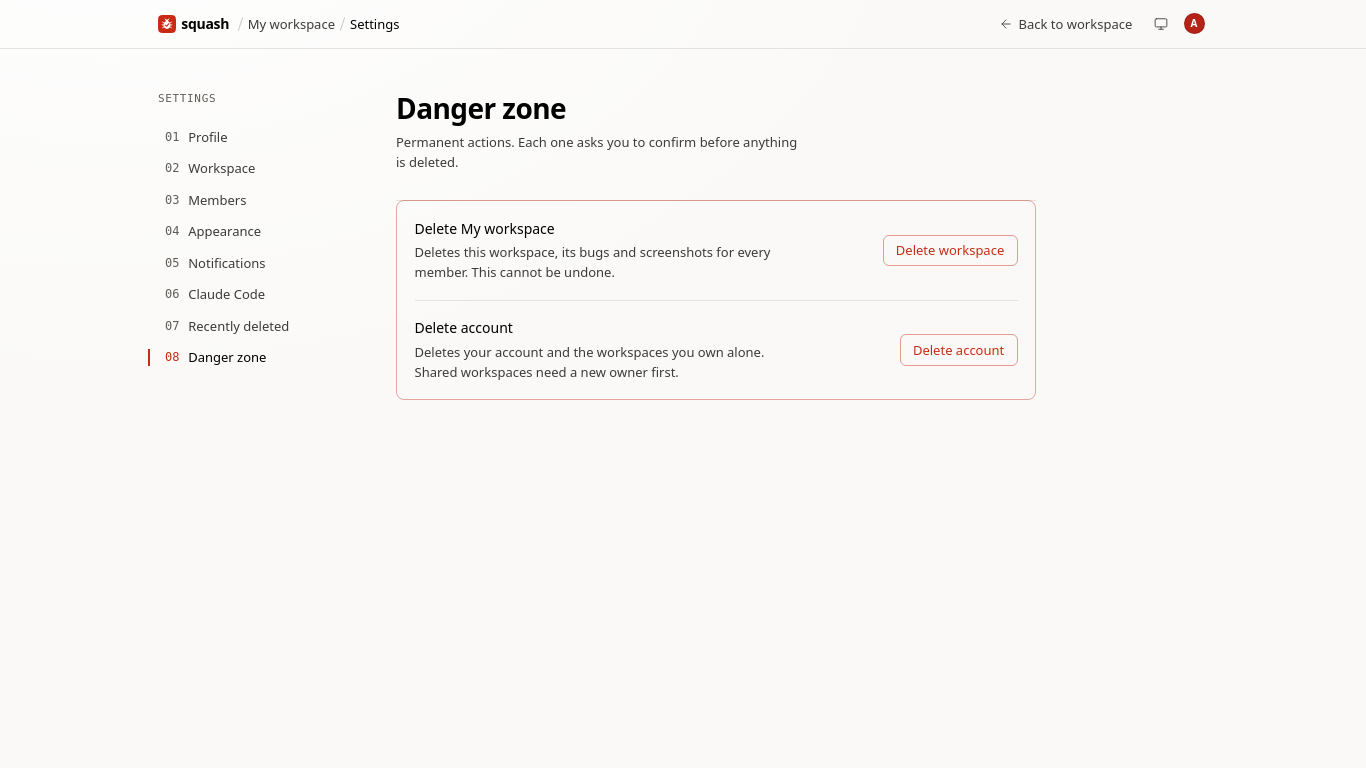
Test case: Settings › preserves the workspace and last selection when removing storage objects fails
Click the button "Delete workspace" at (950, 250), box left=883, top=234, right=1018, bottom=266
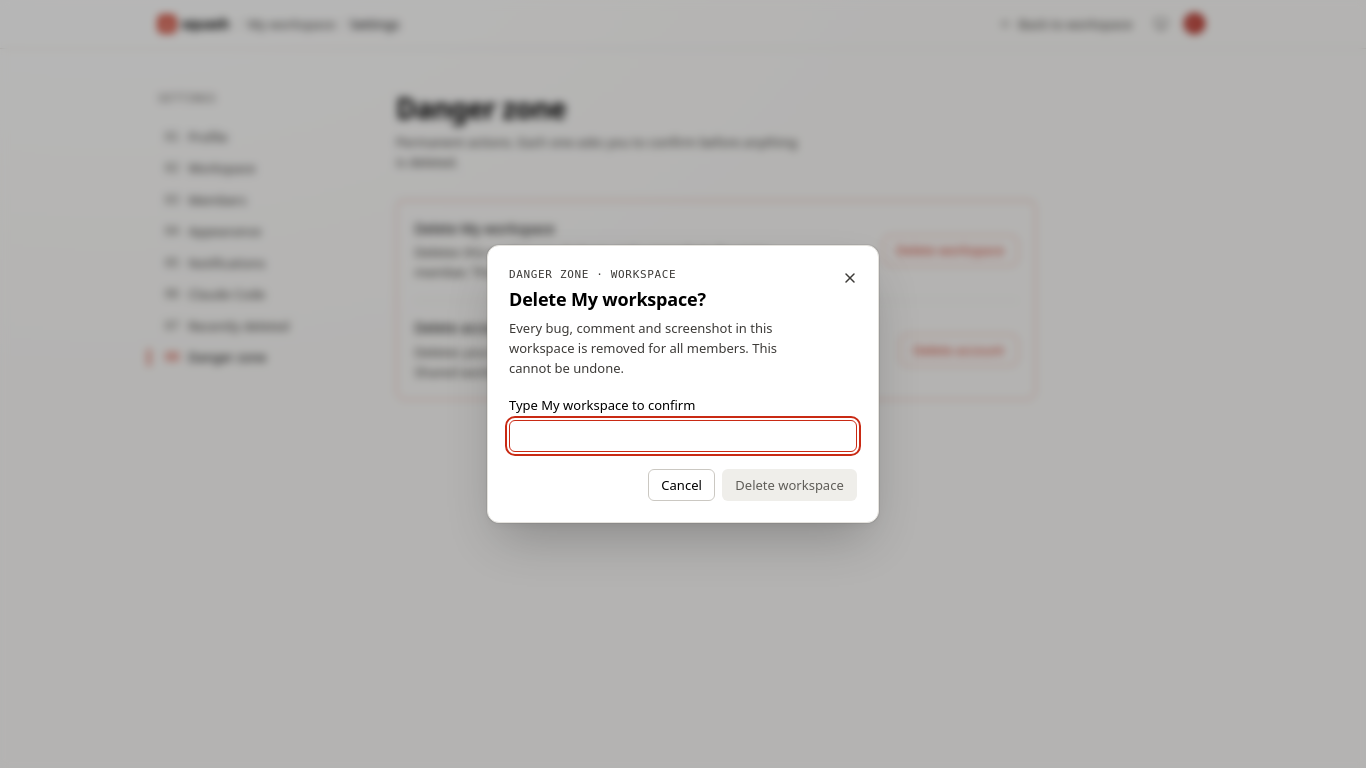
Type "My workspace" into the field at (683, 436), box left=509, top=420, right=857, bottom=452
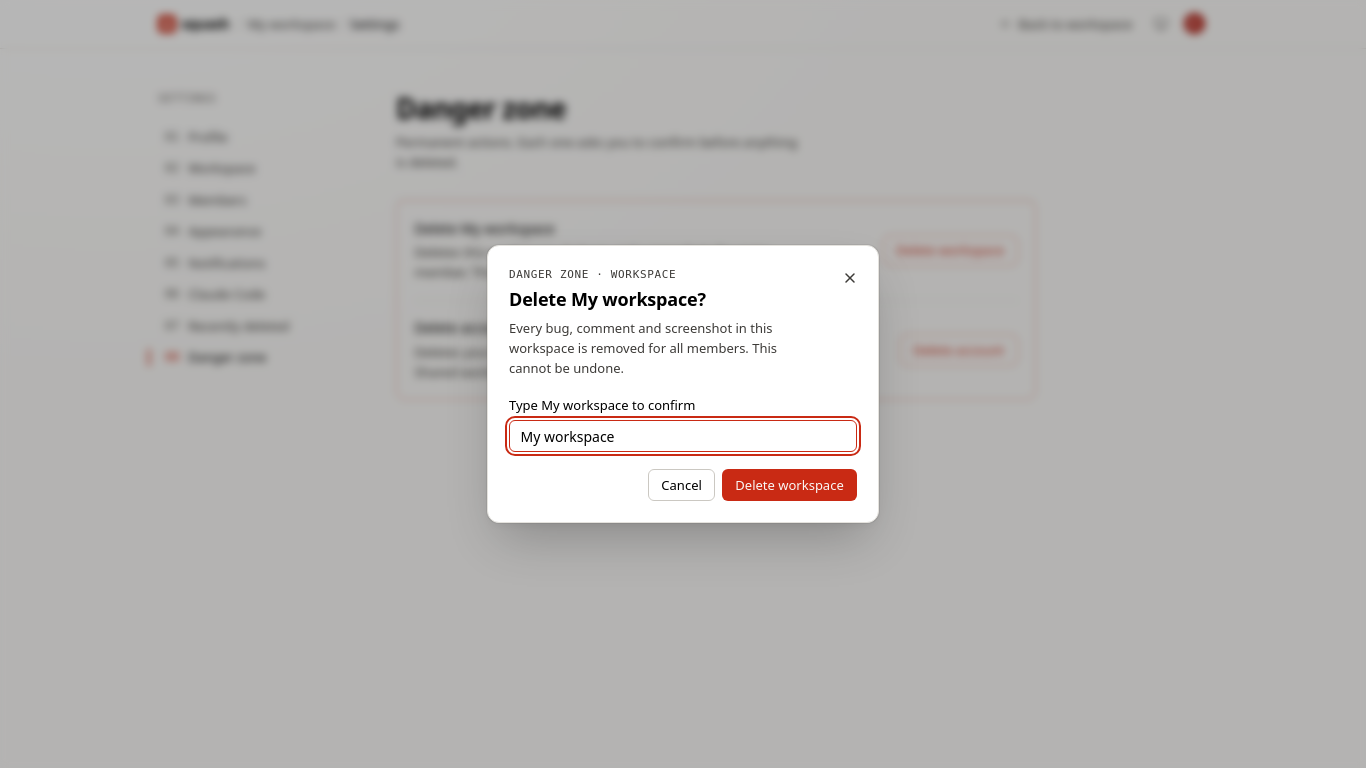
Click the button "Delete workspace" at (790, 485), box left=722, top=469, right=857, bottom=501
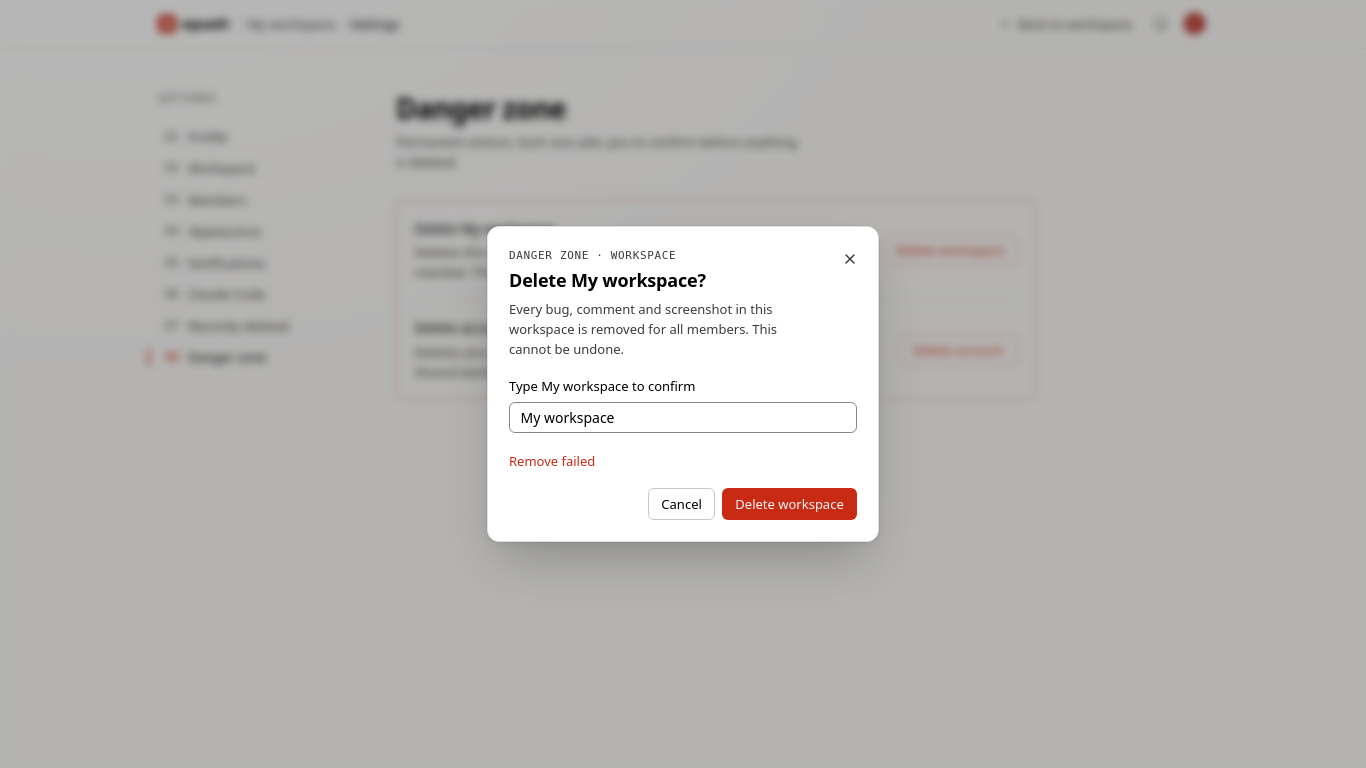
Now the message reads "Remove failed", box left=509, top=452, right=595, bottom=470
